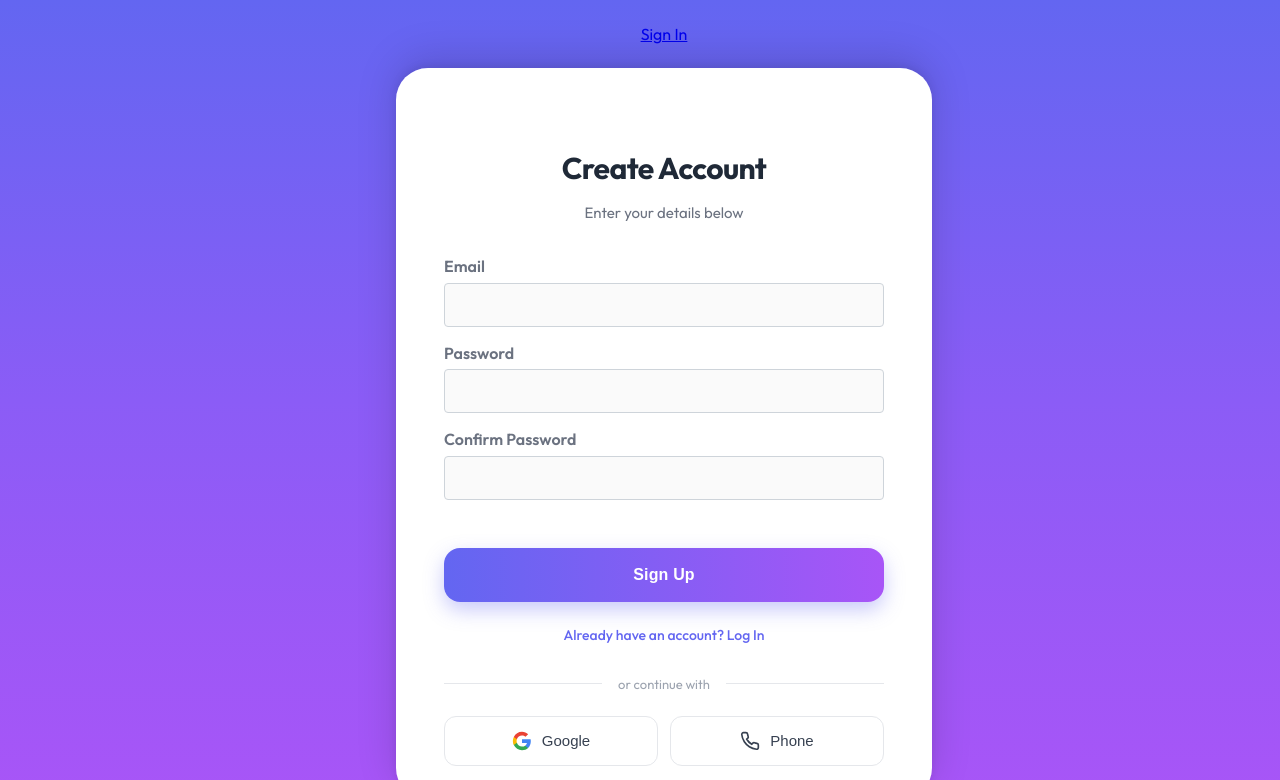
Scenario: SignupPage › stops submit when passwords do not match
Type "user@example.com" into the field labelled "Email" at (664, 305), box [444,283,884,327]
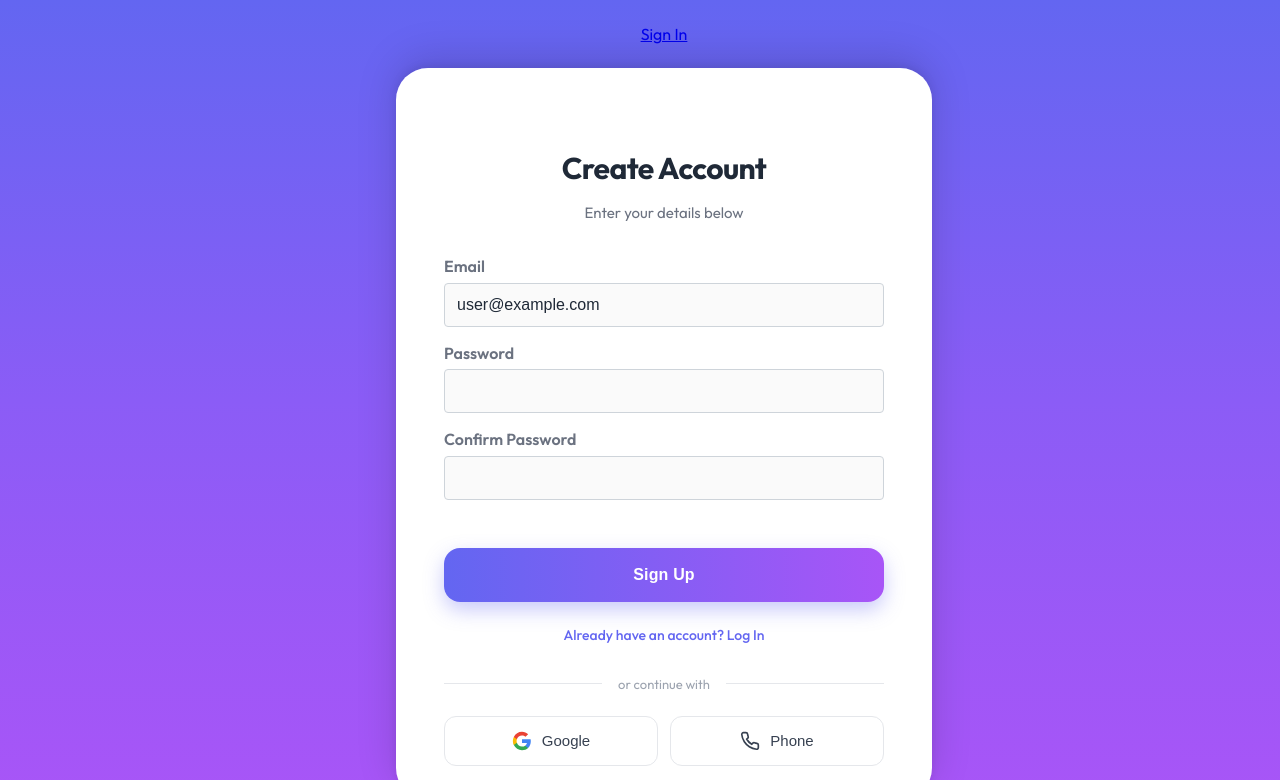
Type "password123" into the password field labelled "Password" at (664, 391), box [444,369,884,413]
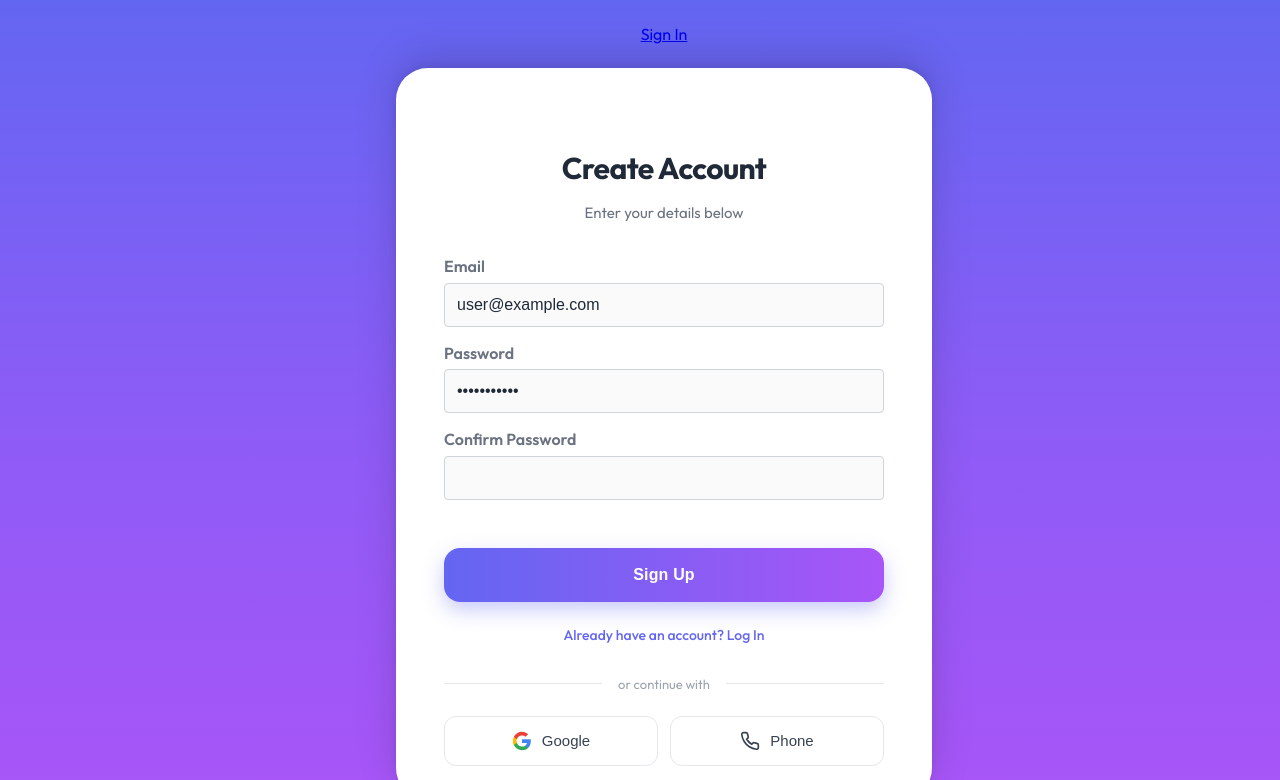
Type "password999" into the password field labelled "Confirm Password" at (664, 478), box [444,456,884,500]
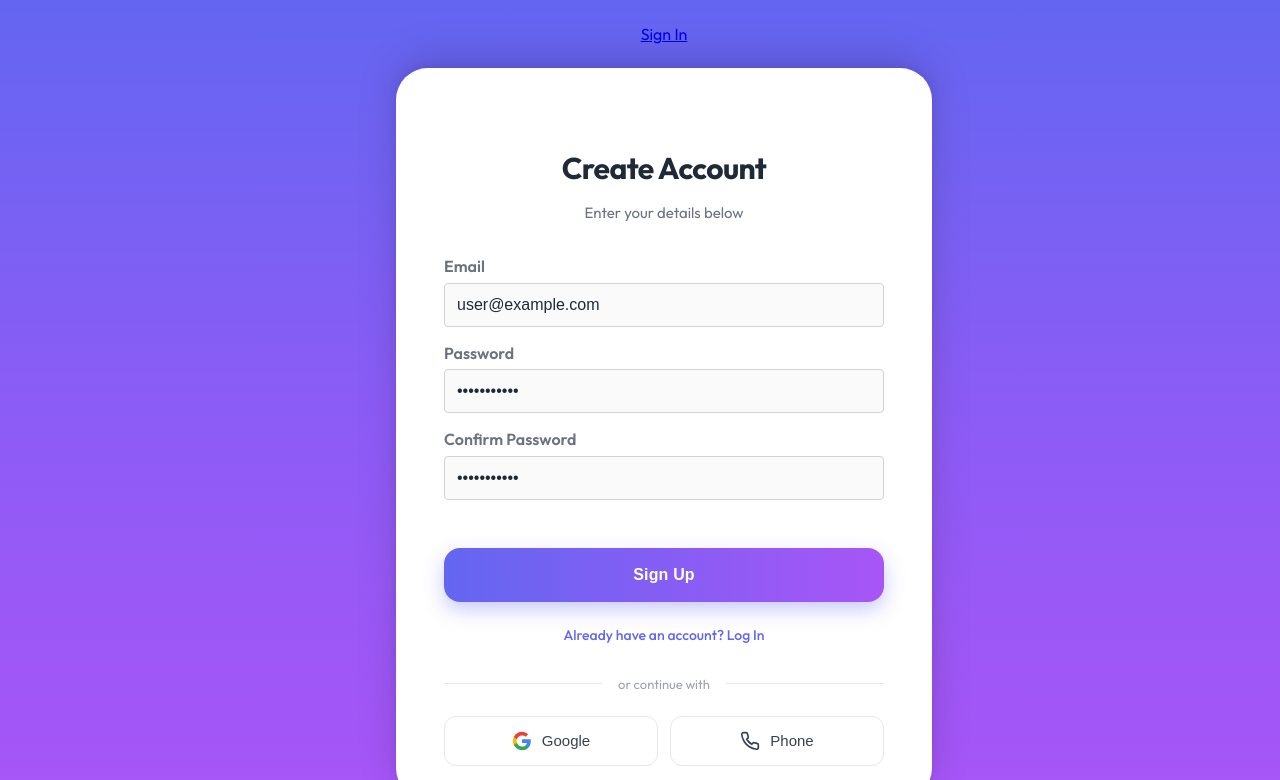
Click the button "Sign Up" at (664, 575), box [444,548,884,602]
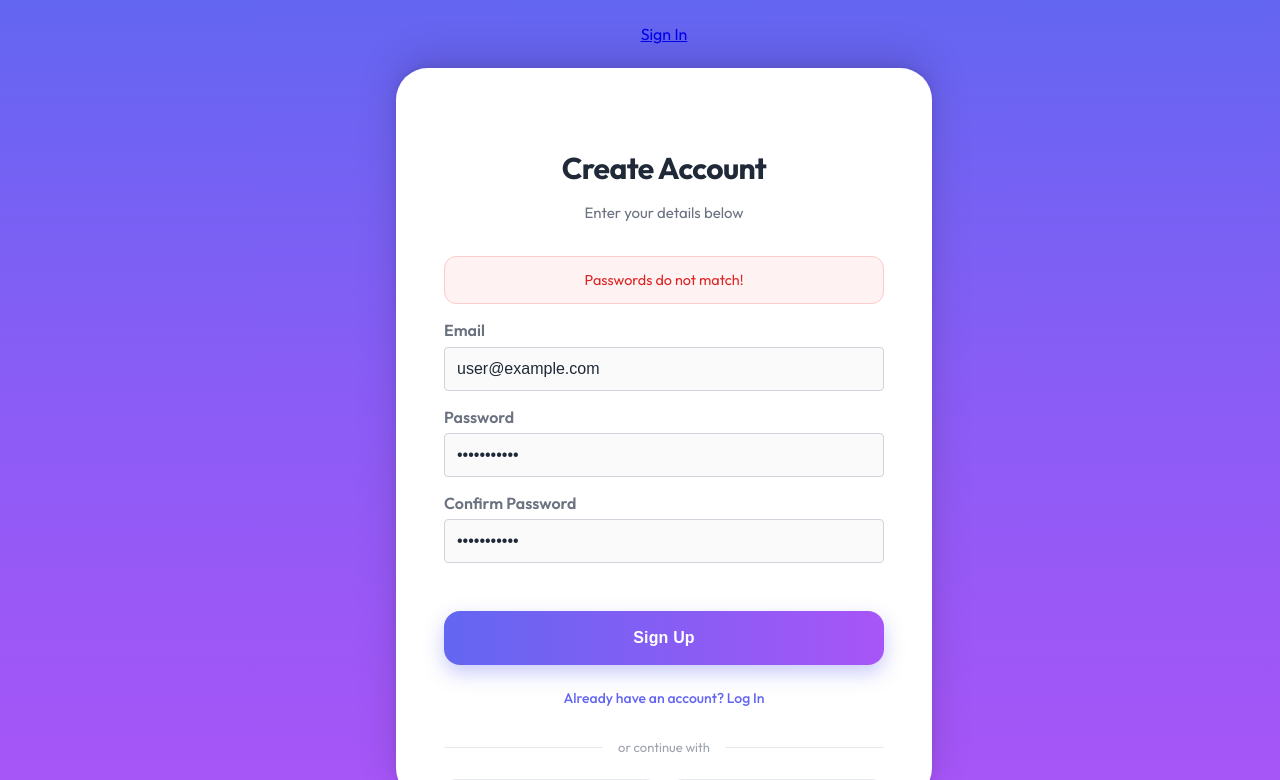
Expected: the text "Passwords do not match!" is shown, [444,256,884,304]
